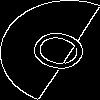O: (25, 25, 100, 81)
